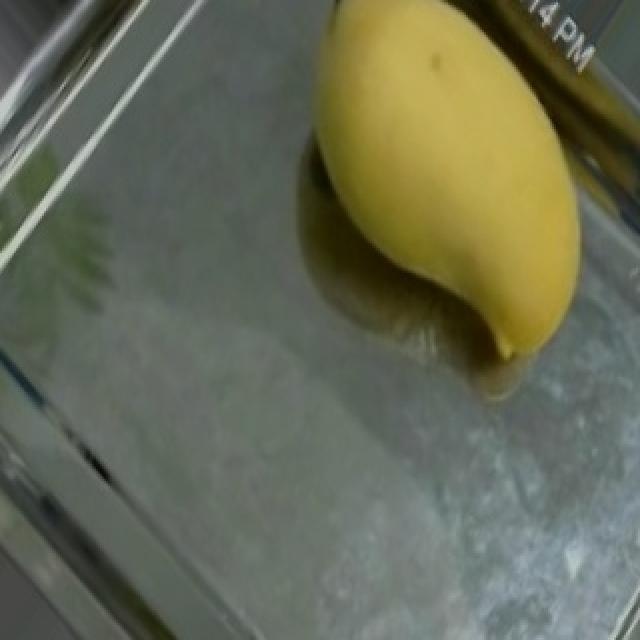fruit: (256, 0, 640, 330)
